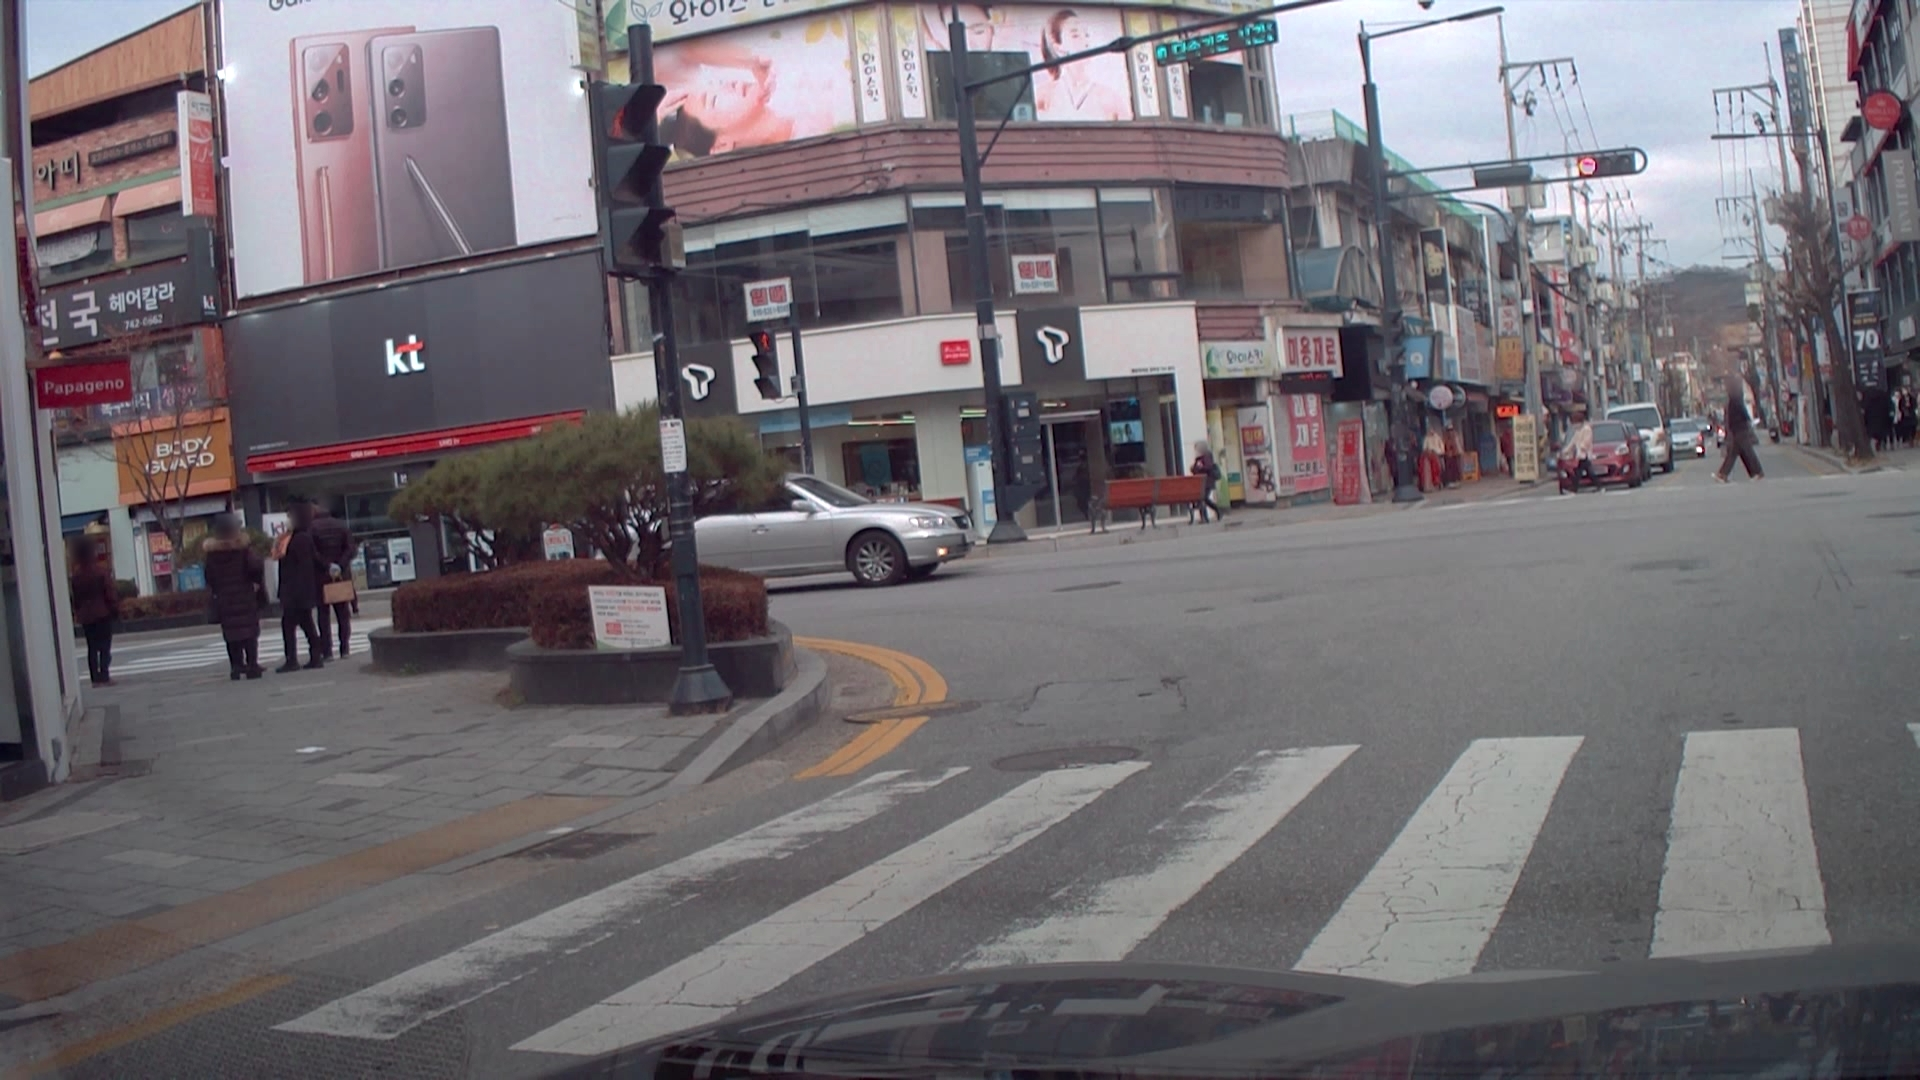trafficLight: (1470, 158, 1640, 185)
trafficLightBar: (585, 76, 673, 280), (748, 331, 783, 401)
